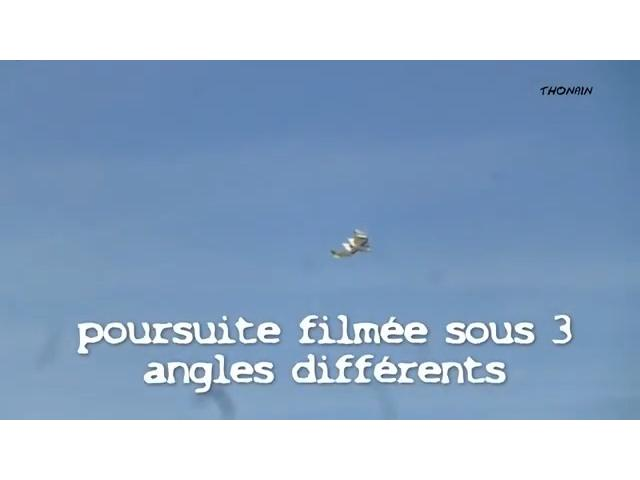Anti-Drone: (331, 228, 371, 260)
